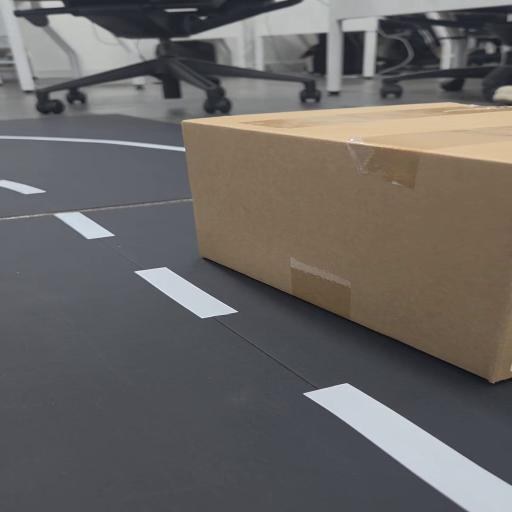Box: (197, 99, 512, 391)
